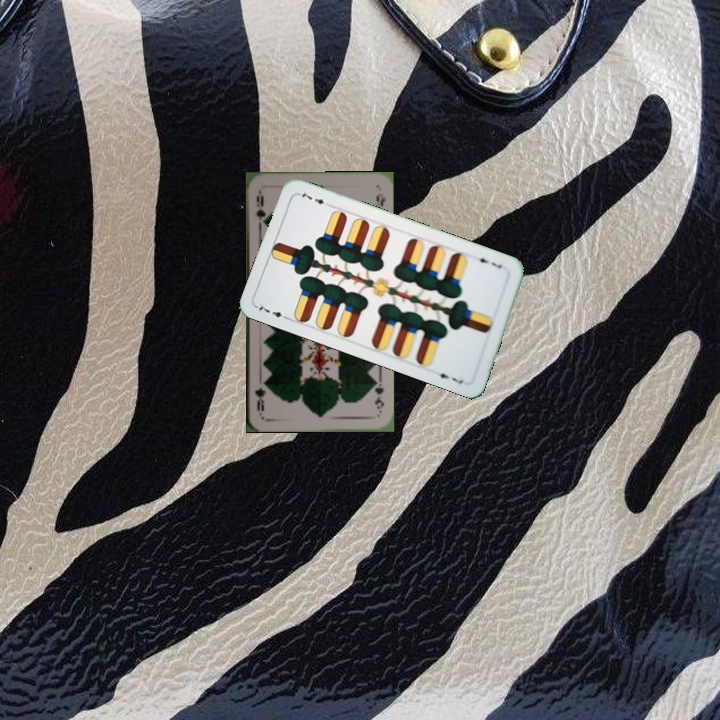E7: (253, 302, 292, 323), (472, 252, 504, 271)
G9: (252, 187, 268, 227), (370, 375, 386, 415)
